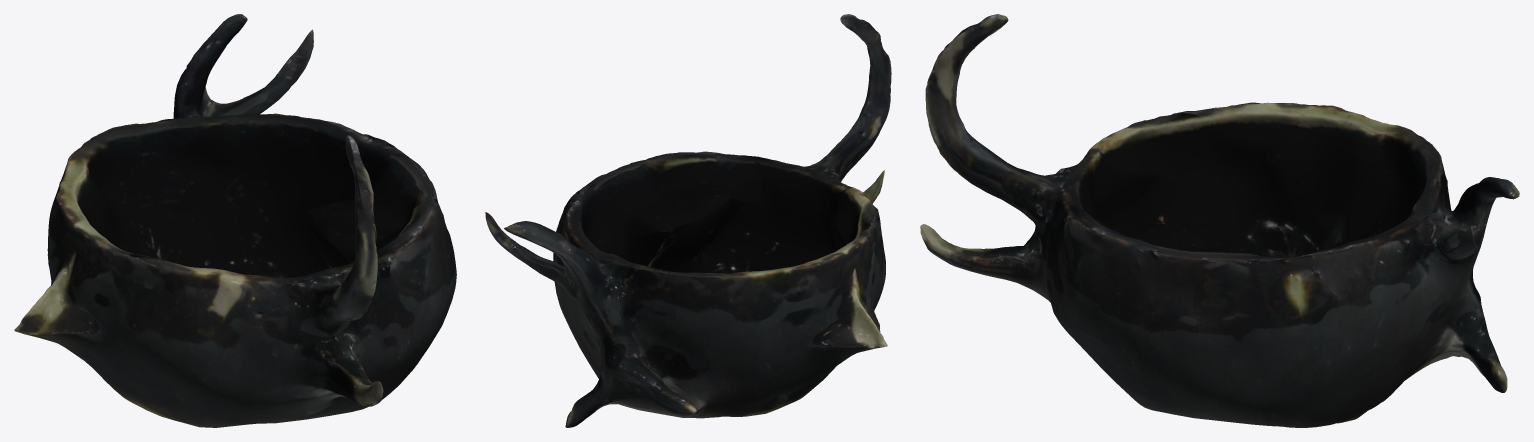
The picture shows the model from 3 angles, left to right: view 1: azimuth 30°, elevation 25°; view 2: azimuth 150°, elevation 25°; view 3: azimuth 270°, elevation 25°; orthographic projection. The views are drawn at different scales.
Bounding box in the file's own units: 0.544 × 0.4758 × 0.7112.
1 material, 1 textured.
